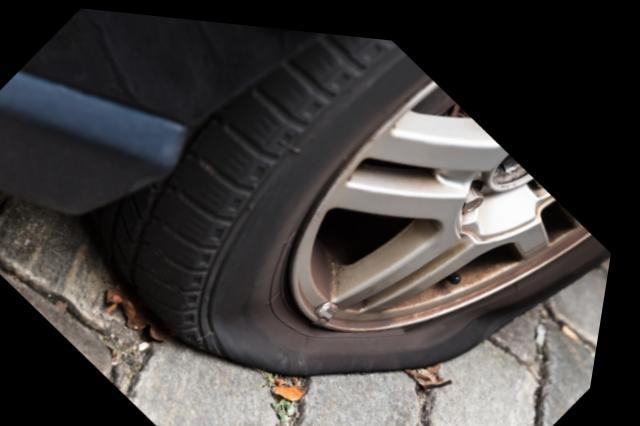tire flat: (100, 26, 617, 371)
